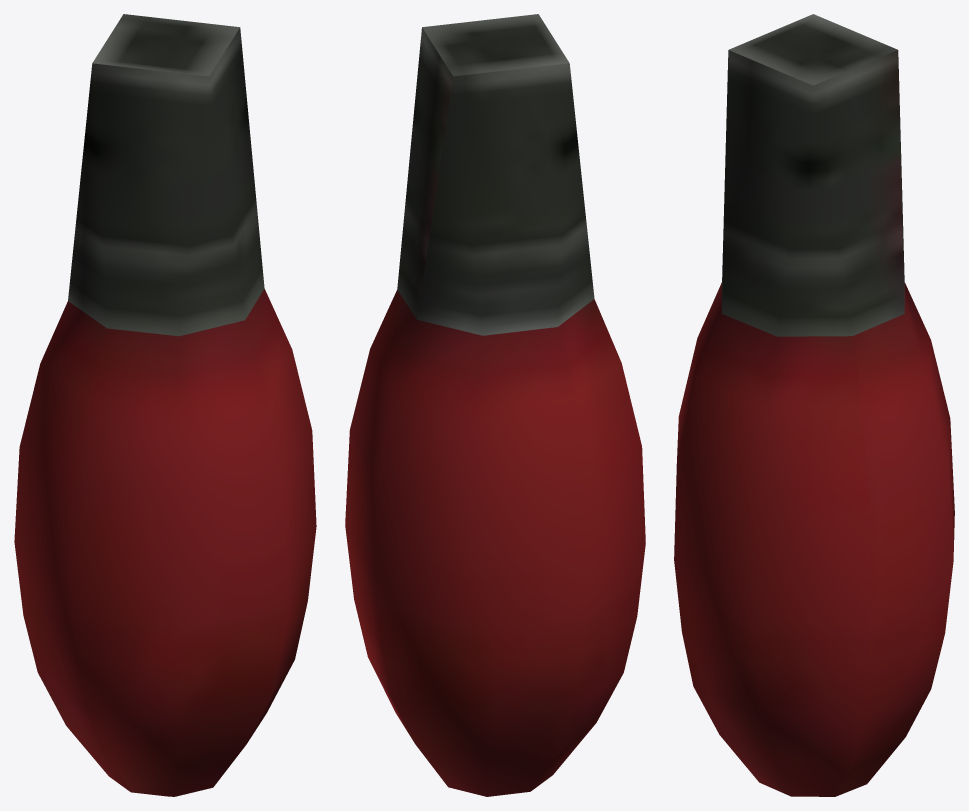
Rendered from xmas_bulb.glb.
3 views of the same model, side by side, from view 1: azimuth 30°, elevation 25°; view 2: azimuth 150°, elevation 25°; view 3: azimuth 270°, elevation 25° (orthographic).
Visible parts, largest first — view 1: christmas_light_bulb; view 2: christmas_light_bulb; view 3: christmas_light_bulb.
Part boxes in pixels (x1,y1,x2,y2): christmas_light_bulb: [14, 14, 316, 796]; christmas_light_bulb: [345, 14, 645, 796]; christmas_light_bulb: [674, 14, 954, 796].
Bounding box in the file's own units: 0.0535 × 0.1569 × 0.0535.
1 material, 1 textured.
